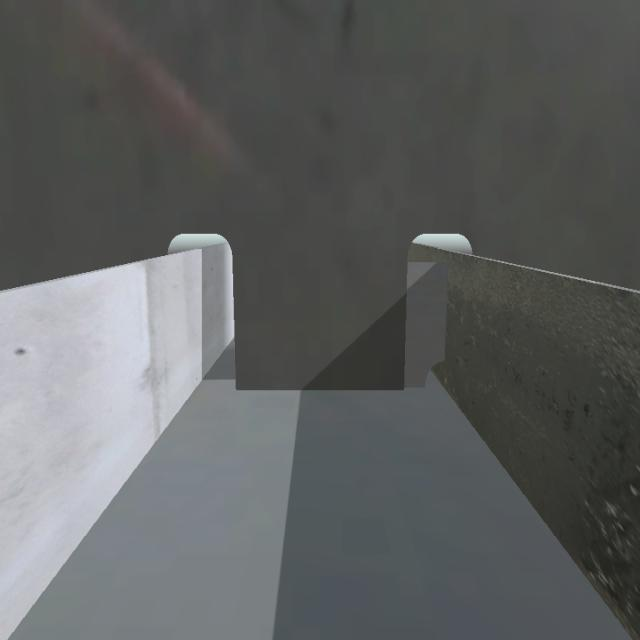fillet_hole: (423, 350, 453, 404)
fillet_yong_jeop_jang: (231, 383, 425, 398)
longi_yong_jeop_jang: (440, 265, 453, 363)
plate_CP05: (402, 261, 447, 391)
